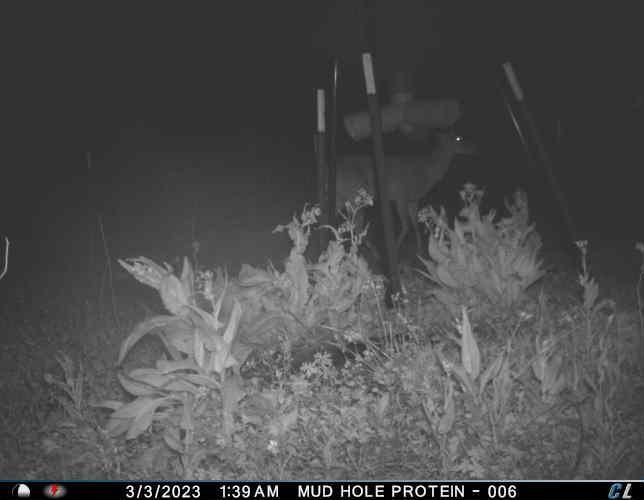Deer: (326, 123, 479, 259)
